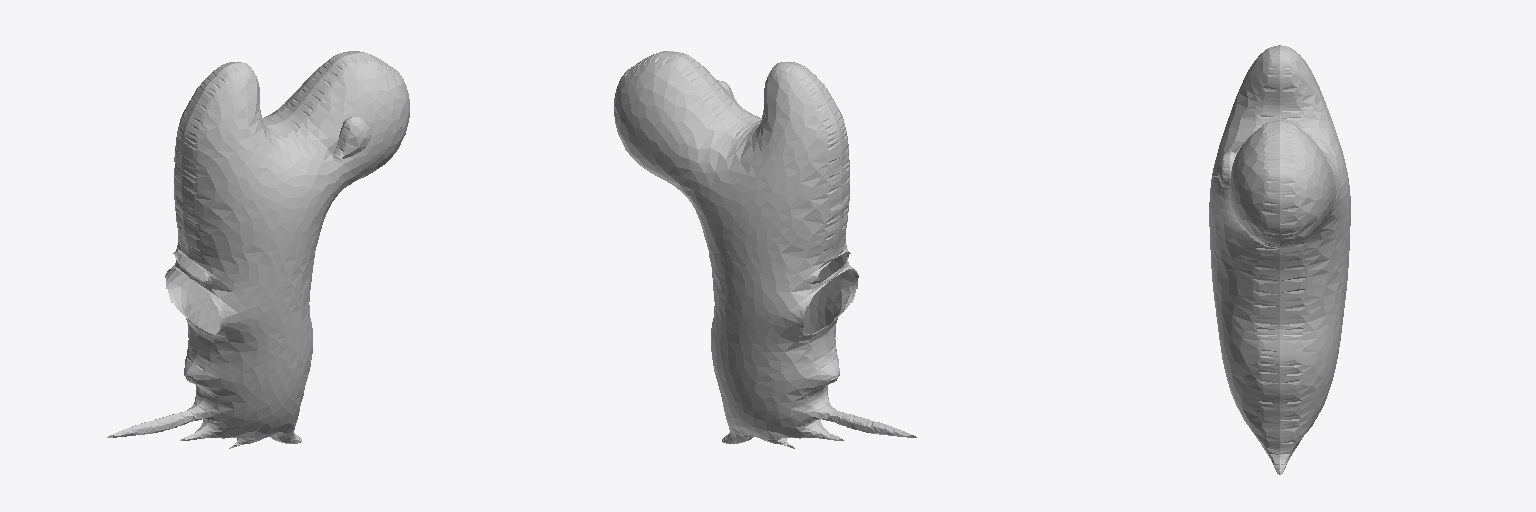
File: mm_frame.obj
3 renders of one model, left to right at view 1: azimuth 30°, elevation 25°; view 2: azimuth 150°, elevation 25°; view 3: azimuth 270°, elevation 25°, orthographic.
Bounding box in the file's own units: 3.44 × 4.35 × 1.41.